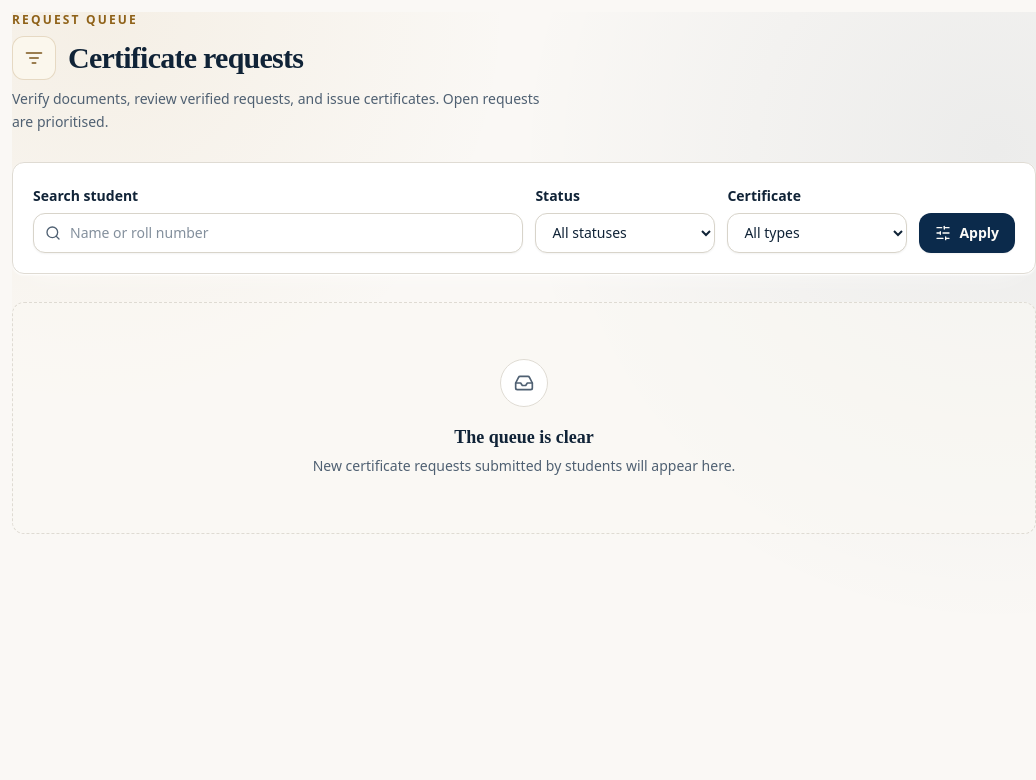
Scenario: AdminQueuePage › sends the selected filters to the API
expect the heading "The queue is clear" is shown: met, box [454,422,594,450]
Select "Approved" in the dropdown labelled "Status": point(625, 232) [535,212,715,252]
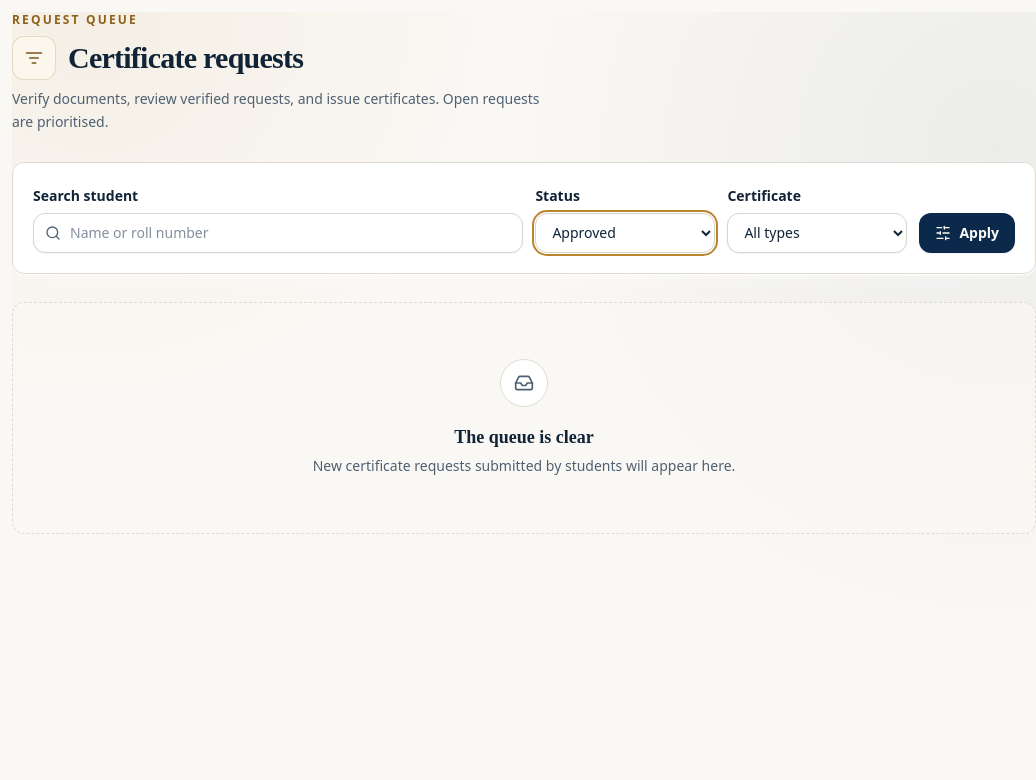
Select "Leaving Certificate" in the dropdown labelled "Certificate": point(817, 232) [727,212,907,252]
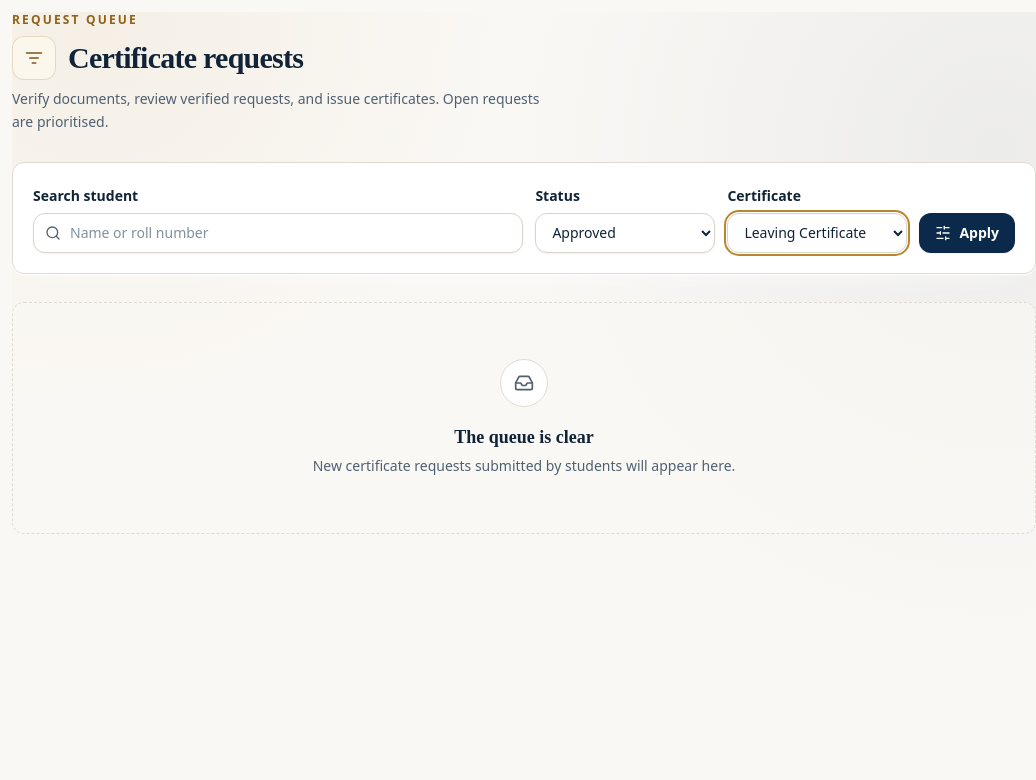
Click the button "Apply": point(967, 232) [919,212,1015,252]
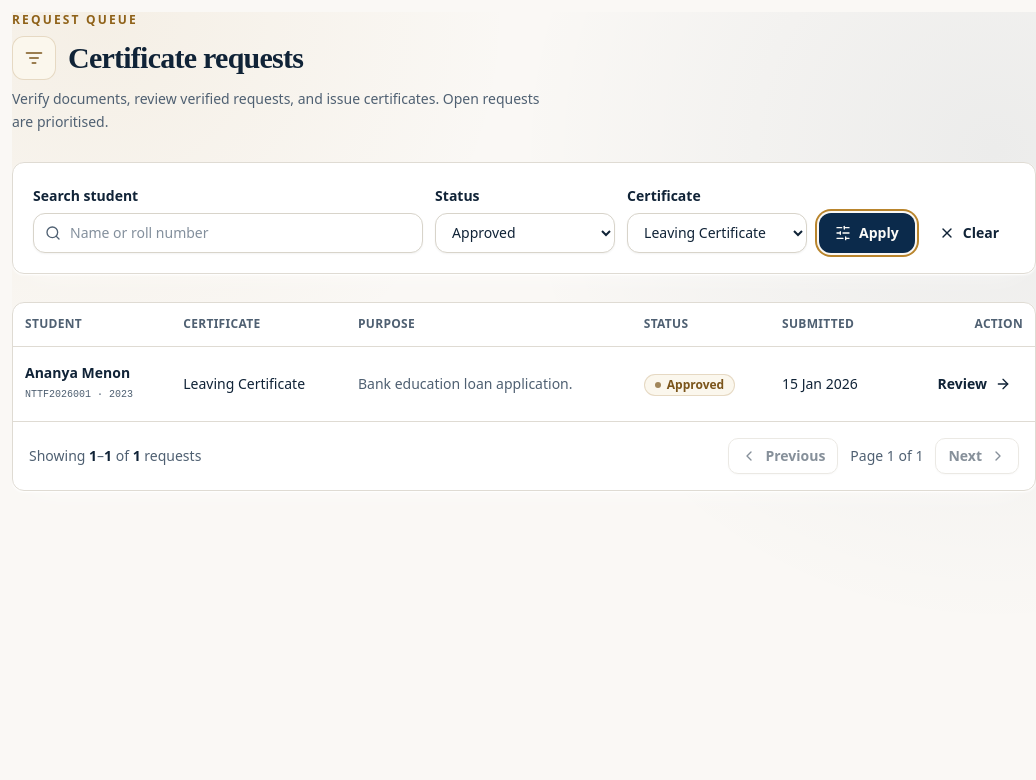
expect the text "Ananya Menon" is shown: met, box [25,363,130,382]
